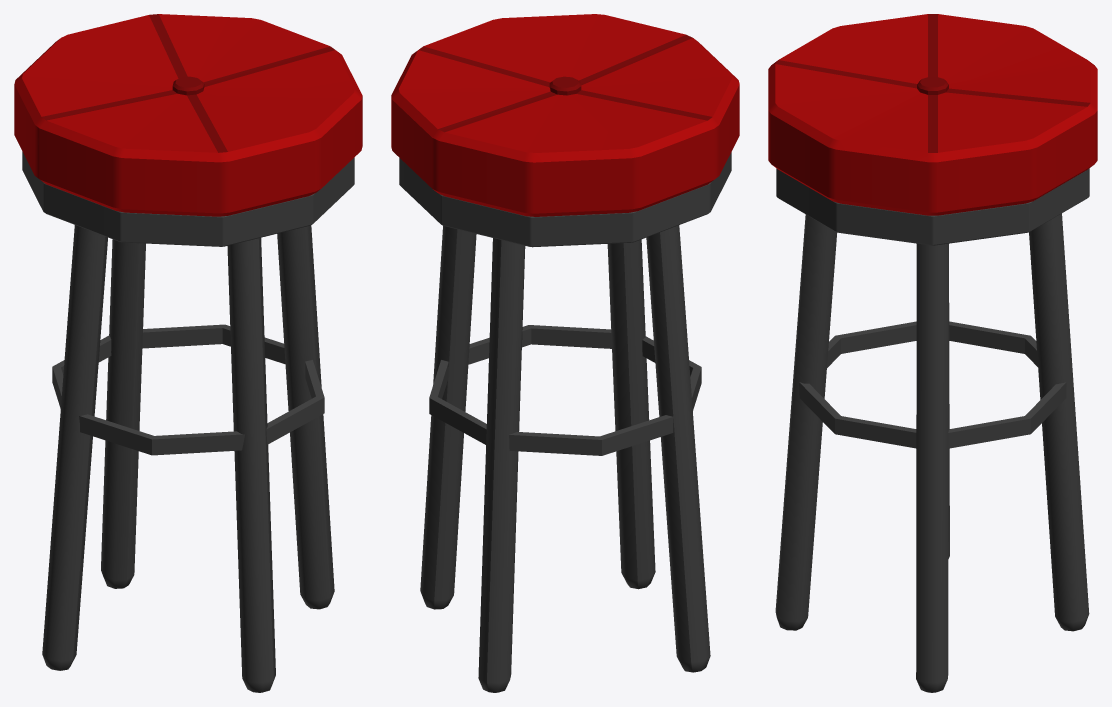
The model's file is simple_low_poly_stool.glb.
The picture shows the model from 3 angles, left to right: view 1: azimuth 30°, elevation 25°; view 2: azimuth 150°, elevation 25°; view 3: azimuth 270°, elevation 25°; orthographic projection.
Parts seen in each view (by area): view 1: StoolCushion, Leg2, Leg1, Leg3, Leg, StoolBottom1, pPipe1; view 2: StoolCushion, Leg1, Leg, Leg3, Leg2, StoolBottom1, pPipe1; view 3: StoolCushion, Leg3, Leg, Leg2, StoolBottom1, pPipe1.
Part boxes in pixels (<box>): StoolCushion: <box>14,14,362,216</box>; Leg2: <box>227,237,275,692</box>; Leg1: <box>42,225,107,670</box>; Leg3: <box>277,225,334,609</box>; Leg: <box>101,239,145,588</box>; StoolBottom1: <box>22,151,354,246</box>; pPipe1: <box>52,324,324,455</box>; StoolCushion: <box>391,14,739,216</box>; Leg1: <box>646,225,710,672</box>; Leg: <box>478,238,525,692</box>; Leg3: <box>420,226,476,609</box>; Leg2: <box>607,239,655,589</box>; StoolBottom1: <box>399,152,731,247</box>; pPipe1: <box>429,325,701,455</box>; StoolCushion: <box>768,14,1097,215</box>; Leg3: <box>916,243,948,692</box>; Leg: <box>1029,213,1089,631</box>; Leg2: <box>775,214,837,630</box>; StoolBottom1: <box>776,168,1089,245</box>; pPipe1: <box>799,321,1066,448</box>.
Bounding box in the file's own units: 19.82 × 34.95 × 19.02.
